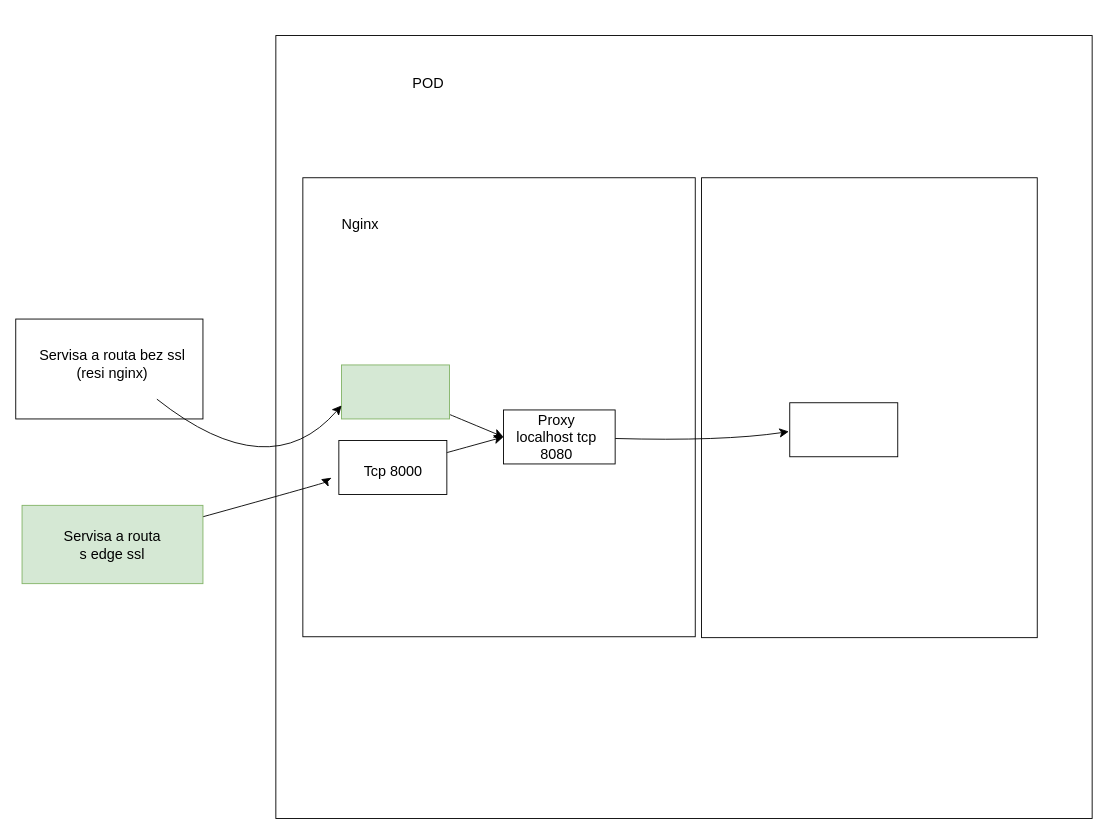
Some shapes in this 1108 by 834 pixel diagram are drawn without their labels. Each missing label, with the box of its shape:
Spring boot 8080: (789, 402, 898, 457)
Tcp 8443: (341, 364, 450, 419)
